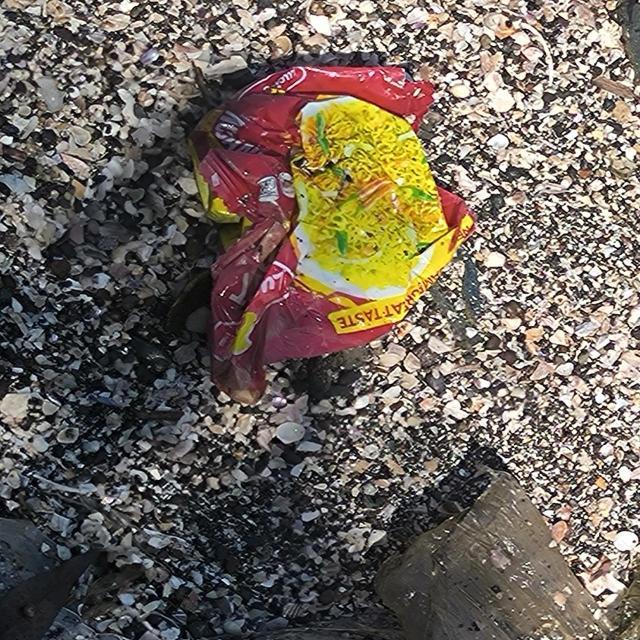plastic_waste: (185, 63, 481, 407)
